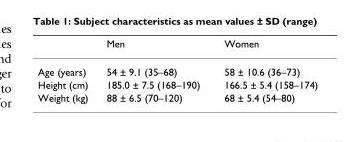table: (37, 37, 317, 103)
table column: (96, 37, 211, 103), (211, 37, 317, 103), (37, 37, 96, 103)
table column header: (37, 37, 317, 57)
table row: (37, 37, 317, 57), (37, 57, 317, 77), (37, 77, 317, 90), (37, 90, 317, 103)
